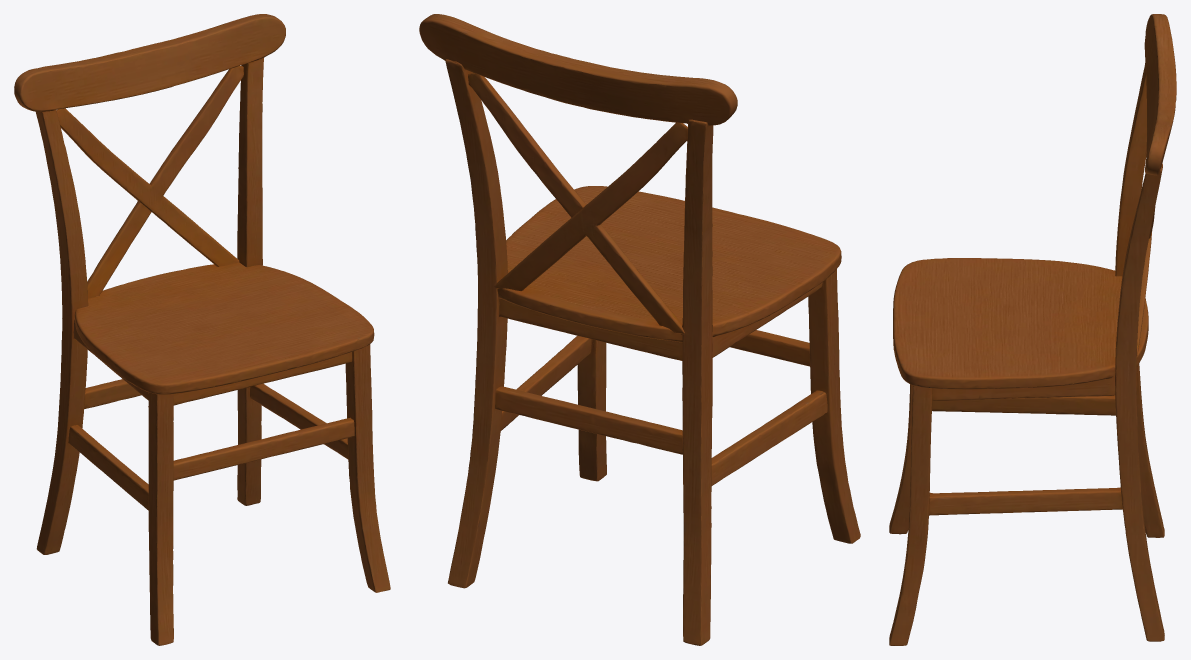
Rendered from xchair.glb.
The picture shows the model from 3 angles, left to right: view 1: azimuth 30°, elevation 25°; view 2: azimuth 150°, elevation 25°; view 3: azimuth 270°, elevation 25°; orthographic projection. The views are drawn at different scales.
Visible parts, largest first — view 1: Mesh; view 2: Mesh; view 3: Mesh.
Part boxes in pixels (x1=…): Mesh: x1=14, y1=14, x2=390, y2=645; Mesh: x1=419, y1=14, x2=860, y2=645; Mesh: x1=889, y1=14, x2=1176, y2=645.
Bounding box in the file's own units: 1.09 × 1.89 × 0.9638.
Materials: 1 (1 with a texture image).
